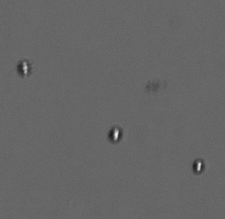Living Cell: (106, 125, 123, 144), (17, 59, 32, 77), (191, 158, 206, 175)
